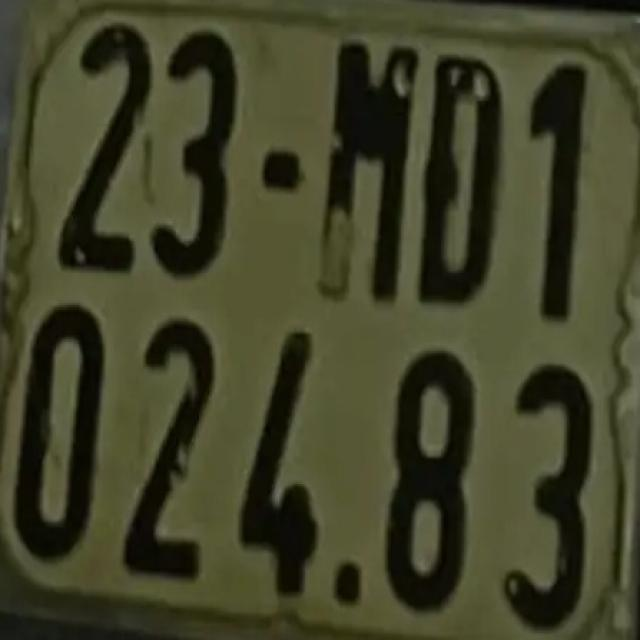0: (10, 297, 107, 566)
1: (524, 56, 594, 325)
2: (120, 308, 215, 586), (55, 20, 147, 276)
3: (502, 358, 592, 628), (151, 25, 238, 280)
4: (236, 321, 326, 603)
8: (381, 340, 475, 616)
D: (417, 51, 504, 307)
M: (317, 34, 415, 301)
